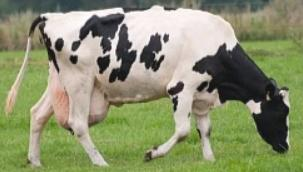cow: (5, 6, 290, 166)
